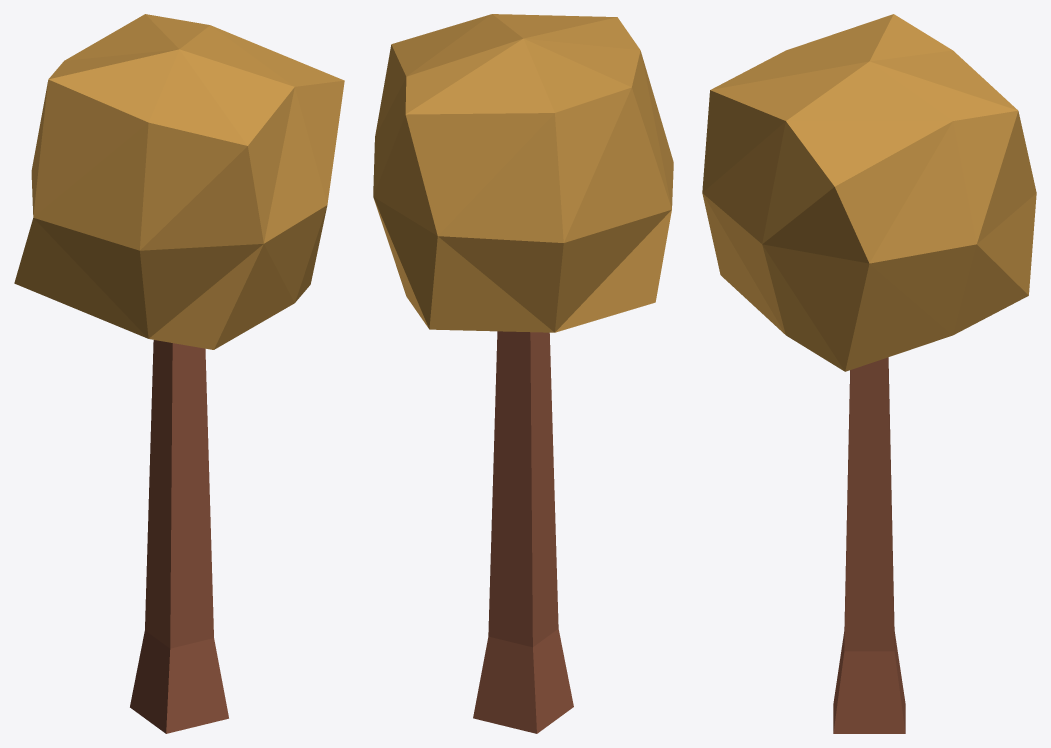
File: Tree_42_autumn_pal.fbx
3 views of the same model, side by side, from view 1: azimuth 30°, elevation 25°; view 2: azimuth 150°, elevation 25°; view 3: azimuth 270°, elevation 25° (orthographic). The views are drawn at different scales.
Visible parts, largest first — view 1: Tree_42_autumn_pal; view 2: Tree_42_autumn_pal; view 3: Tree_42_autumn_pal.
Boxes of the visible parts, box(x1,y1,x2,y2) form: Tree_42_autumn_pal: box(14, 14, 344, 733); Tree_42_autumn_pal: box(373, 14, 673, 733); Tree_42_autumn_pal: box(702, 14, 1036, 733).
Bounding box in the file's own units: 98.78 × 212 × 97.79.
